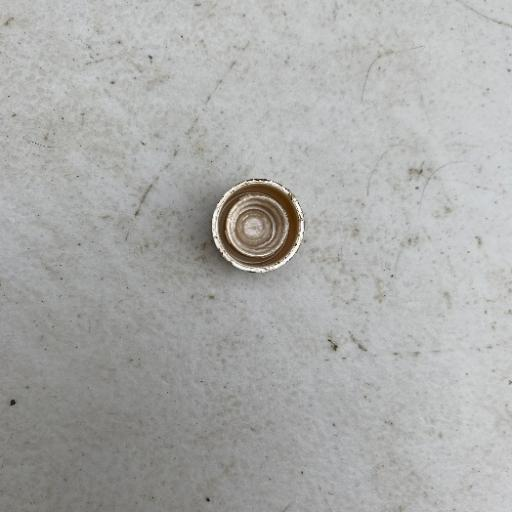Plastic: (208, 176, 306, 275)
